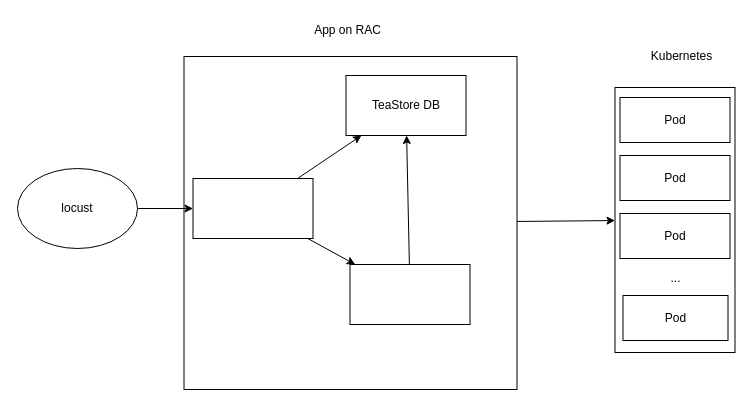
The diagram is 753 pixels wide and 407 high, and some of its shapes have lost their labels. The box of each missing label's shape, as (x1, y1, x2, y2) in pixels:
TeaStore Services: (349, 264, 470, 324)
TeaStore UI: (192, 178, 313, 238)
